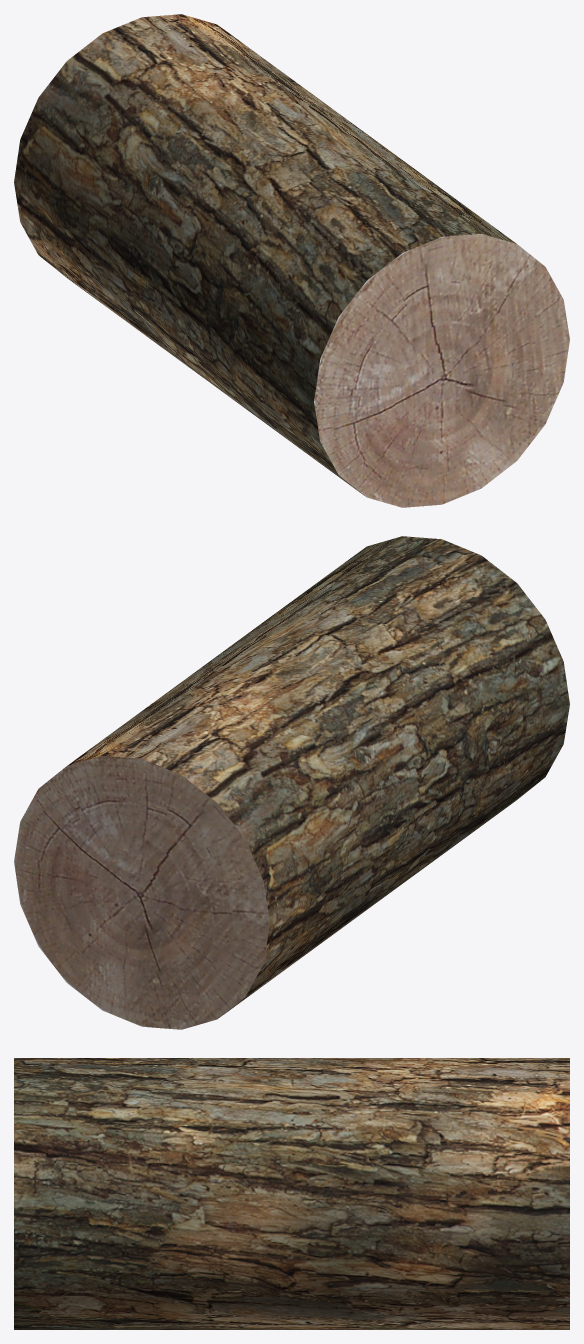
The model's file is Log 1.fbx.
3 views of the same model, one above another, from view 1: azimuth 30°, elevation 25°; view 2: azimuth 150°, elevation 25°; view 3: azimuth 270°, elevation 25° (orthographic). The views are drawn at different scales.
Visible parts, largest first — view 1: log; view 2: log; view 3: log.
Part boxes in pixels (<box>): log: <box>14,14,569,507</box>; log: <box>14,536,569,1029</box>; log: <box>14,1058,569,1329</box>.
Bounding box in the file's own units: 0.33 × 0.33 × 0.67.
